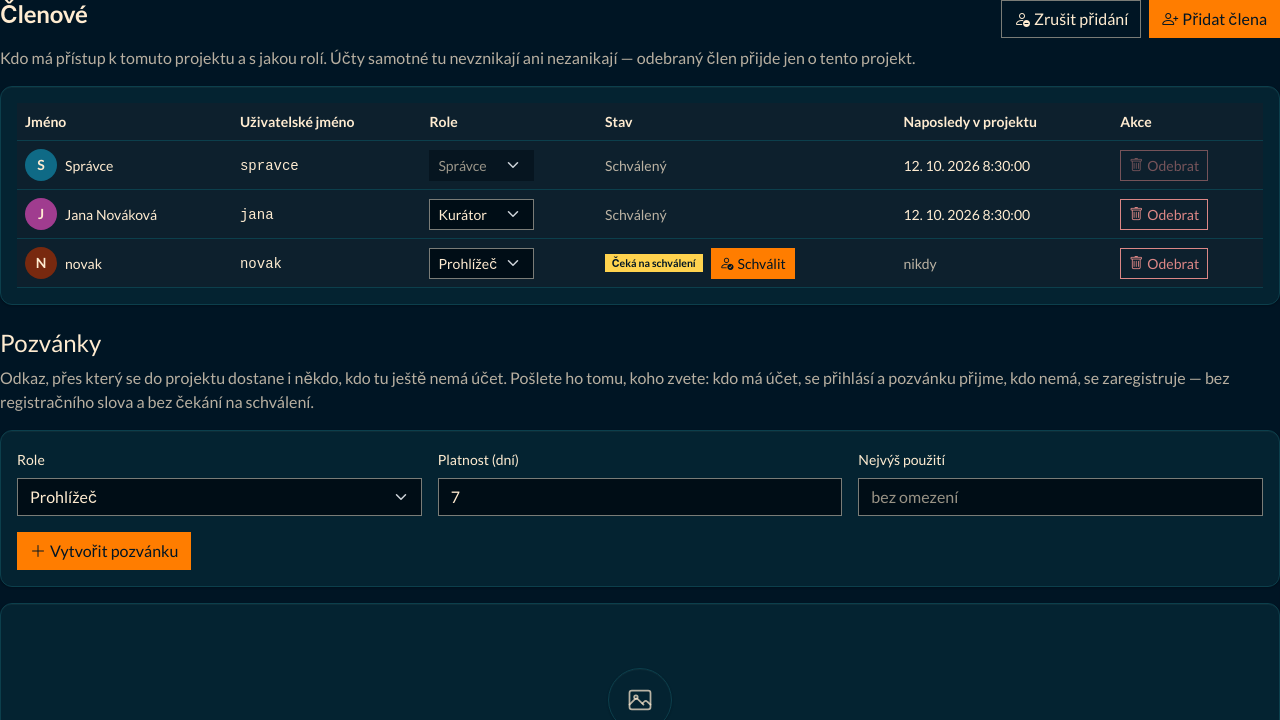
Test: MembersPage › withdraws an add by its identifier, without a role, and answers neutrally
Expected: the text "jana" is shown, 240,206 -> 274,222
Click the button "Zrušit přidání". click: (1071, 19)
box: 1001,0 -> 1141,38
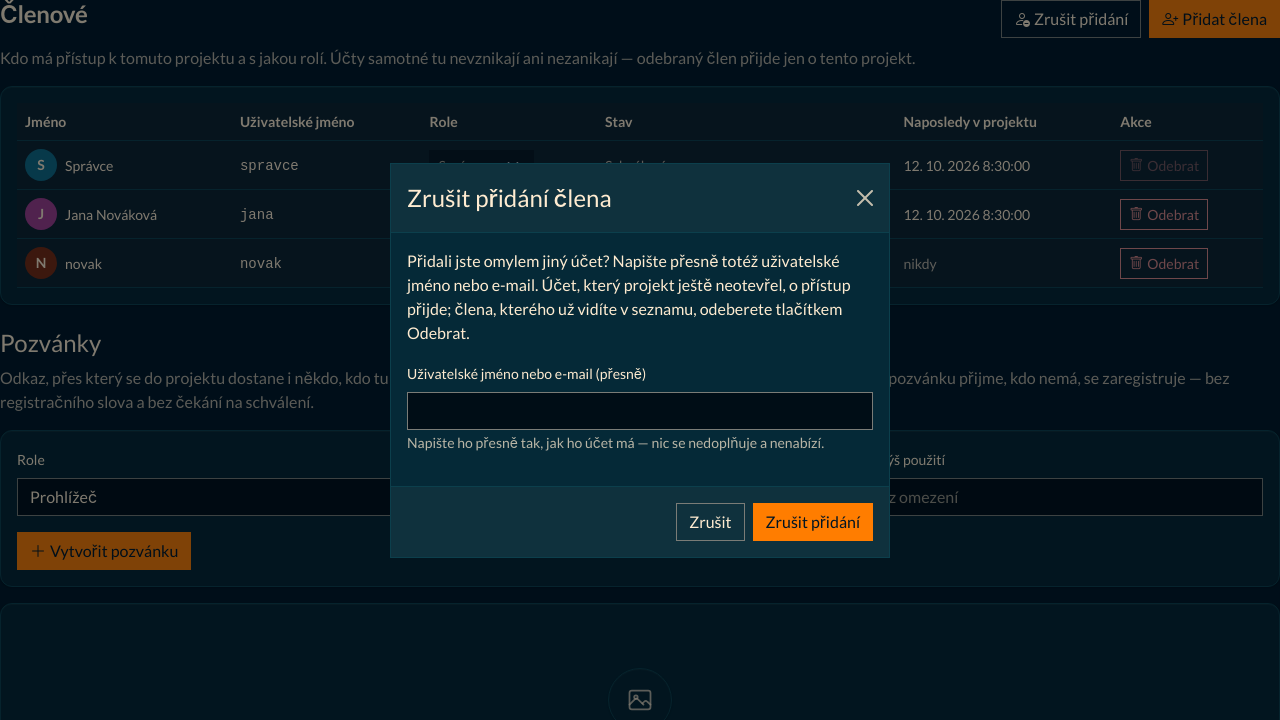
Type "petr@example.org" into the field labelled "Uživatelské jméno nebo e-mail (přesně)". click: (640, 410)
box: 407,392 -> 873,430
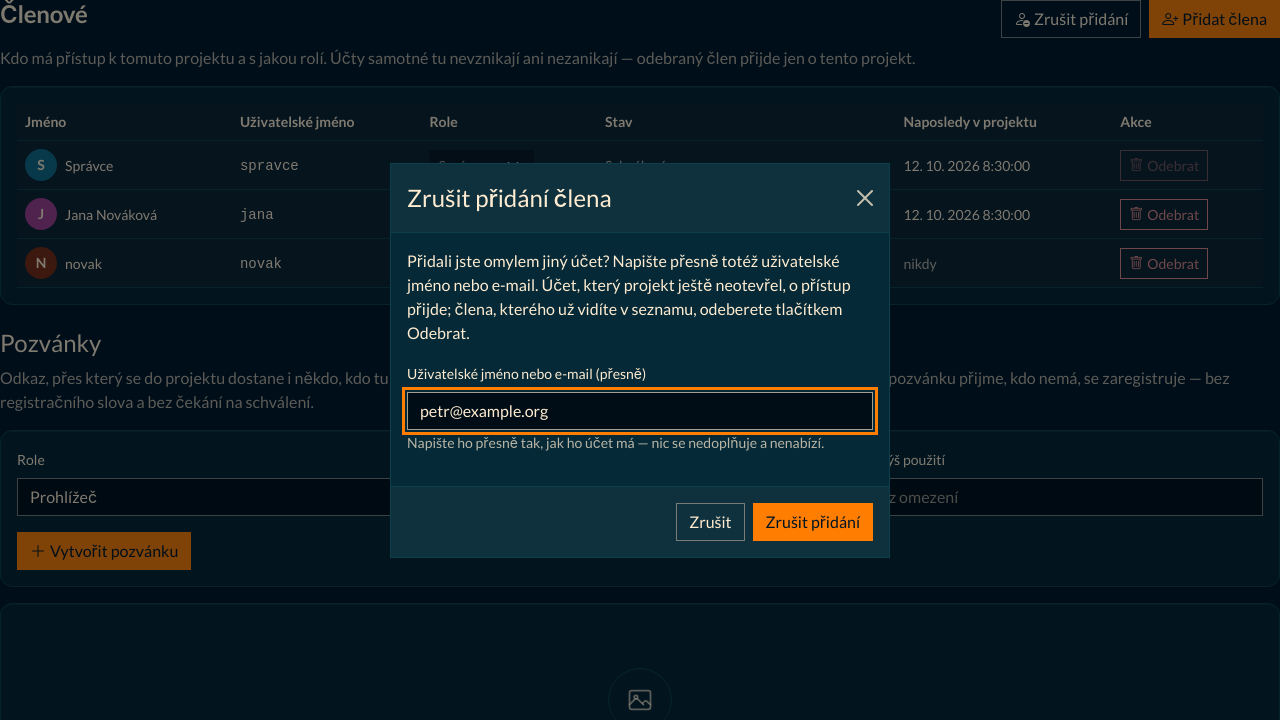
Click the button "Zrušit přidání". click: (813, 522)
box: 753,502 -> 873,540
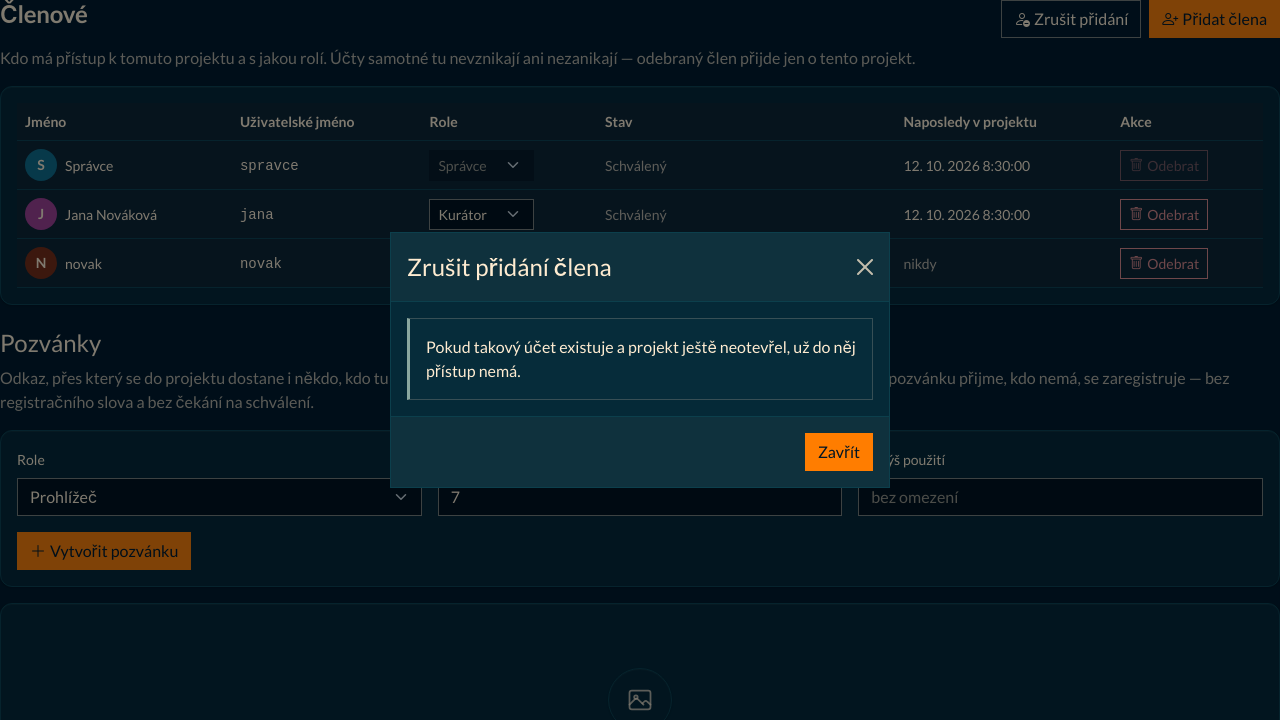
Expected: the text "Pokud takový účet existuje a projekt ještě neotevřel, už do něj přístup nemá." is shown, 407,318 -> 873,400
